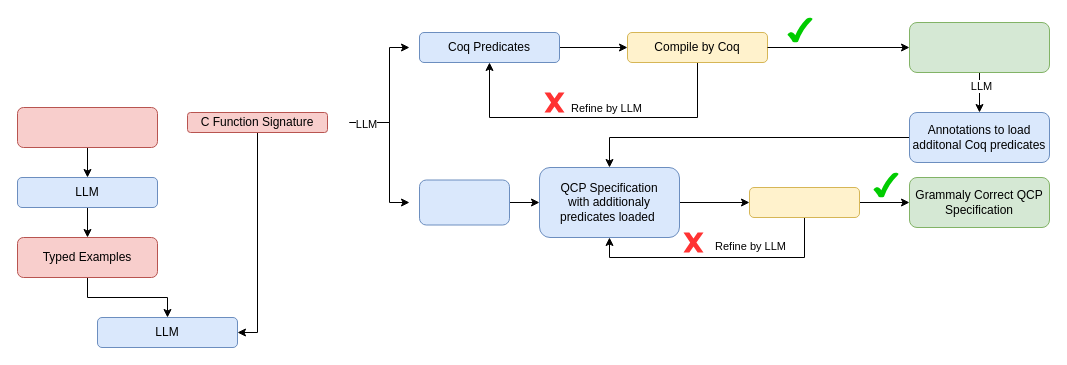
Some shapes in this 1067 by 365 pixel diagram are drawn without their labels. The centre of each missing label's shape, as x and y in pixels:
"Compile by QCP" belongs at pixel 804 202.
"Grammarly correct Coq Predicates" belongs at pixel 979 47.
"Natural Language Description" belongs at pixel 87 127.
"QCP Specification" belongs at pixel 464 202.
